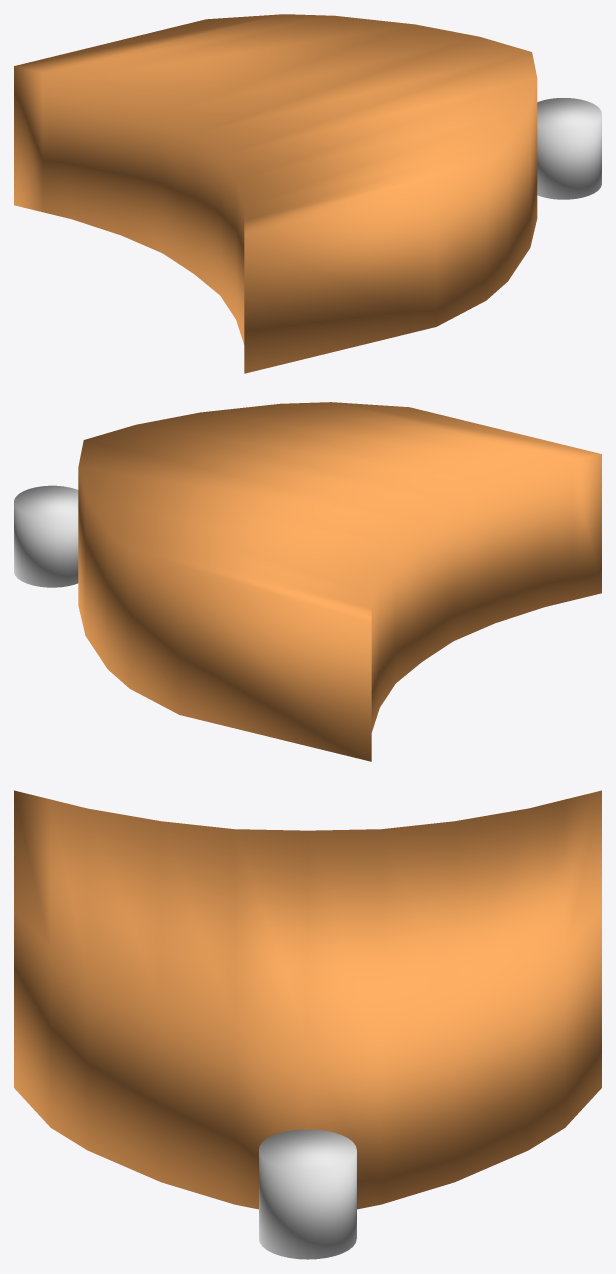
The model's file is NOR-transformed.glb.
3 views of the same model, one above another, from view 1: azimuth 30°, elevation 25°; view 2: azimuth 150°, elevation 25°; view 3: azimuth 270°, elevation 25° (orthographic). The views are drawn at different scales.
Visible parts, largest first — view 1: 3, Cot3; view 2: 3, Cot3; view 3: 3, Cot3.
Boxes of the visible parts, <box> form: 3: <box>14,14,537,373</box>; Cot3: <box>537,98,601,199</box>; 3: <box>78,402,601,761</box>; Cot3: <box>14,485,78,587</box>; 3: <box>14,790,601,1209</box>; Cot3: <box>259,1129,356,1259</box>.
Bounding box in the file's own units: 3.52 × 1 × 3.
